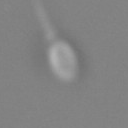normal: (28, 1, 60, 42)
